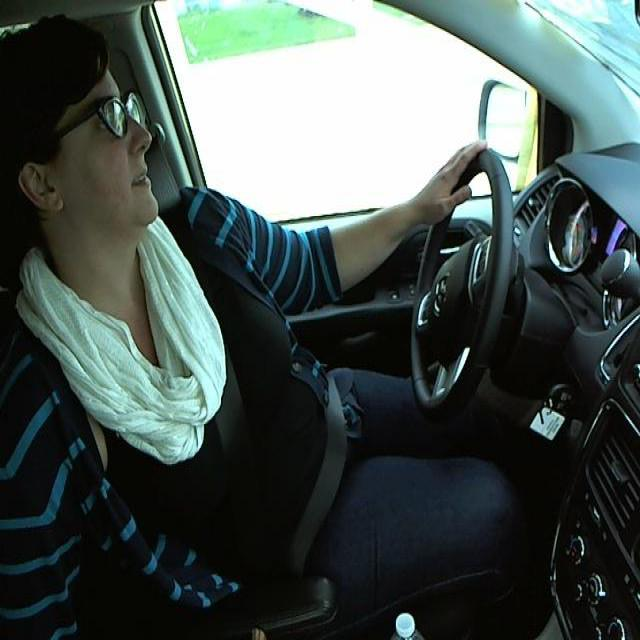seatbelt: (206, 352, 361, 540)
